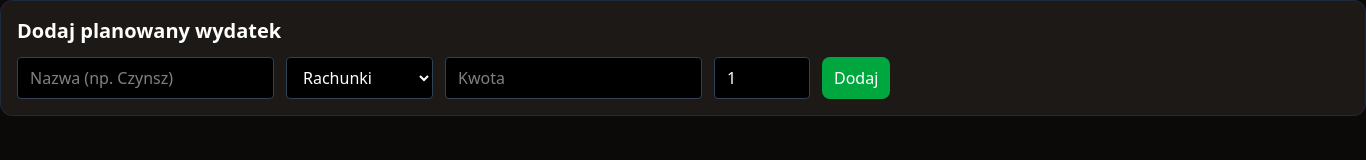
Test: ExpenseForm › submits trimmed name, rounded price and resets fields
Type "  Chleb  " into the field with placeholder "Nazwa (np. Czynsz)" at (146, 78), box [17,57,274,99]
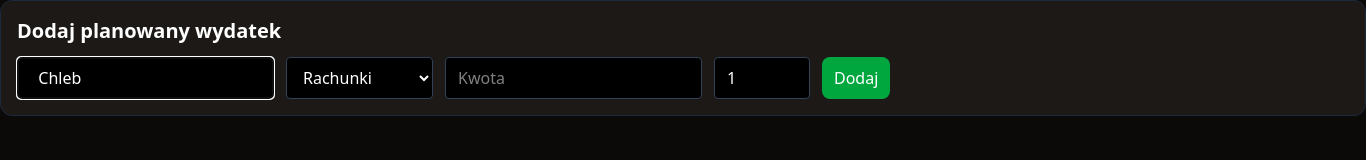
Select "Inne" in the dropdown at (360, 78), box [286,57,433,99]
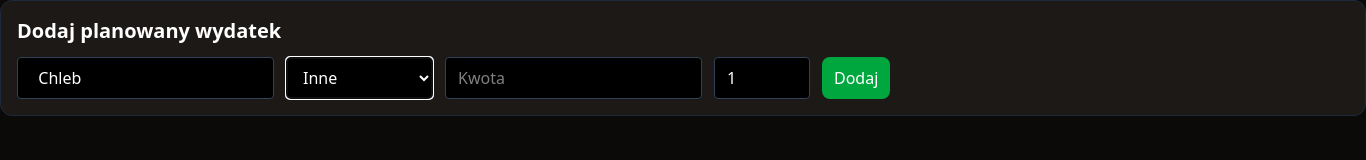
Type "12.345" into the number field with placeholder "Kwota" at (574, 78), box [445,57,702,99]
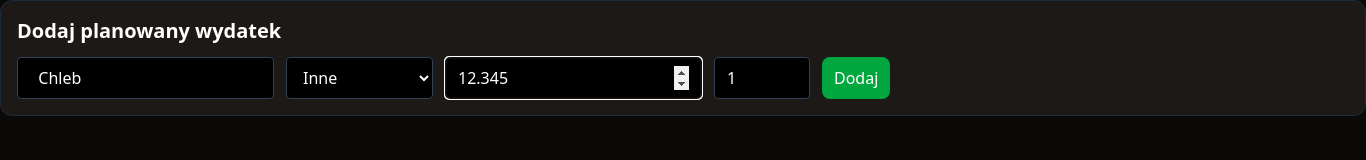
Replace the text in the 2nd number field with "2" at (762, 78), box [714,57,810,99]
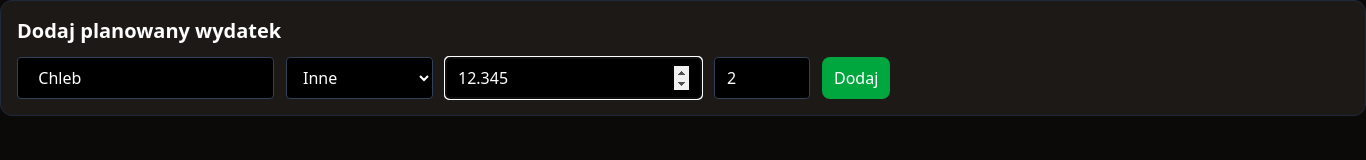
Click the button "Dodaj" at (856, 78), box [822,57,890,99]
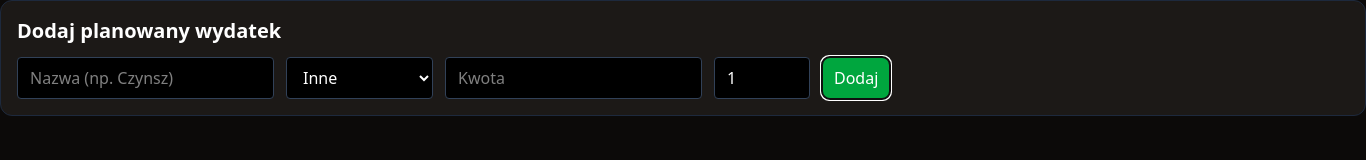
Expected: the field with placeholder "Nazwa (np. Czynsz)" is empty, [17,57,274,99]
Expected: the number field with placeholder "Kwota" is not empty, [445,57,702,99]
Expected: the 2nd number field holds "1", [714,57,810,99]
